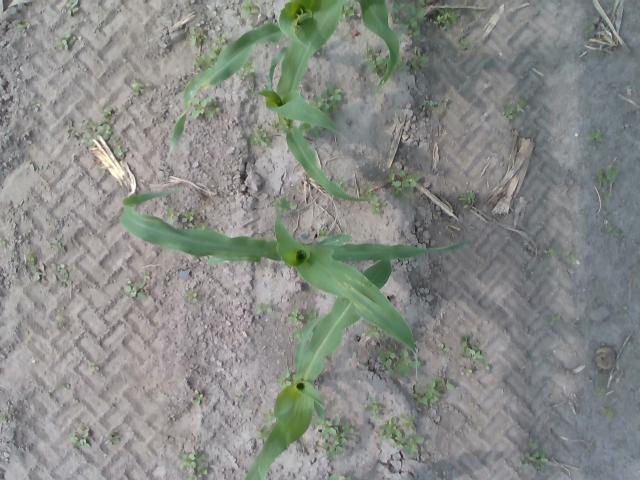Maize: (120, 189, 472, 365), (243, 260, 392, 479), (257, 0, 399, 202), (166, 0, 316, 160)
Weeds: (320, 419, 360, 455), (414, 379, 453, 406), (180, 451, 208, 480), (67, 120, 95, 145), (390, 0, 424, 20), (388, 171, 416, 194), (598, 168, 616, 202), (380, 418, 402, 444), (122, 280, 150, 300), (193, 98, 219, 118), (70, 427, 93, 447), (526, 451, 550, 470), (398, 351, 414, 379), (364, 398, 386, 418), (368, 51, 385, 74), (314, 93, 336, 110), (192, 49, 212, 67), (238, 1, 258, 19), (113, 135, 129, 157), (402, 436, 424, 452), (91, 124, 111, 140), (402, 412, 417, 431), (33, 262, 47, 282), (277, 198, 300, 210), (57, 36, 76, 50), (66, 1, 82, 17), (286, 310, 304, 324), (253, 130, 268, 146), (462, 336, 474, 356), (434, 12, 451, 26), (328, 86, 344, 100), (132, 81, 148, 95), (409, 14, 425, 28), (413, 53, 429, 67), (377, 353, 395, 365), (302, 126, 320, 137), (591, 127, 605, 141), (190, 390, 204, 404), (371, 198, 384, 212), (167, 209, 180, 223), (256, 303, 272, 314), (19, 23, 32, 36), (213, 35, 225, 49), (522, 438, 536, 450), (462, 192, 477, 203), (190, 27, 200, 43), (515, 100, 526, 114), (107, 436, 122, 446), (364, 330, 379, 340), (182, 211, 194, 223), (602, 407, 614, 419), (102, 106, 112, 120), (344, 4, 354, 18), (187, 290, 198, 301), (502, 107, 513, 118), (60, 273, 70, 285), (450, 12, 460, 24), (440, 342, 450, 354), (406, 30, 419, 39), (245, 64, 253, 78), (53, 263, 64, 273), (0, 415, 11, 424), (550, 315, 561, 324), (606, 226, 619, 233), (441, 94, 451, 103), (597, 386, 606, 396), (474, 350, 483, 359), (460, 40, 468, 50), (566, 252, 576, 260), (586, 24, 595, 32), (0, 238, 6, 249), (34, 103, 41, 112), (428, 101, 438, 107), (90, 364, 100, 370), (32, 255, 38, 264), (544, 248, 552, 254), (486, 364, 491, 370), (467, 370, 472, 373)
